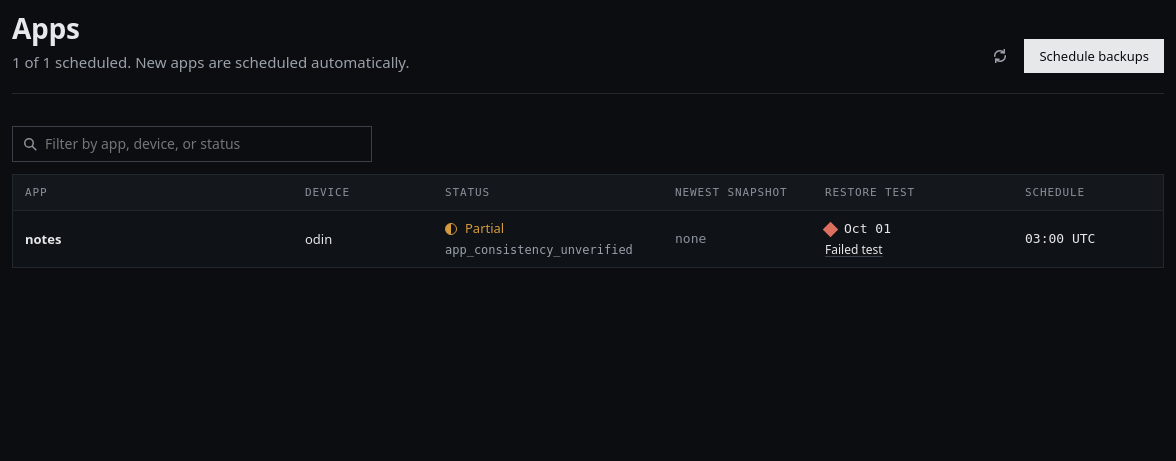
Scenario: keeps the last known apps and marks a failed refresh
Expected: the link "notes" is shown, [25,230,61,248]
Click the button named "Refresh": (1000, 56) [984,40,1016,72]
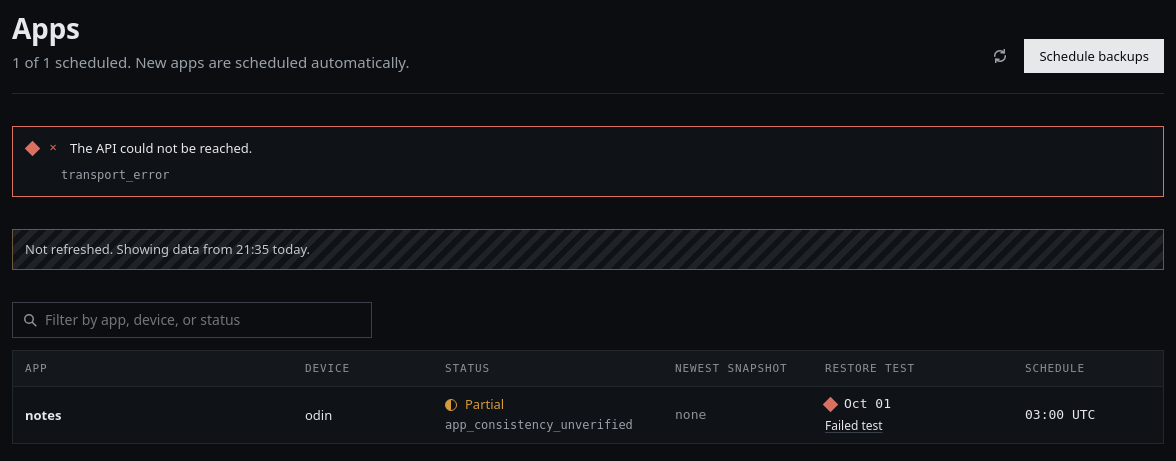
Expected: the link "notes" is shown, [25,406,61,424]
Expected: the text "Not refreshed. Showing data from 21:35 today." is shown, [12,229,1164,270]
